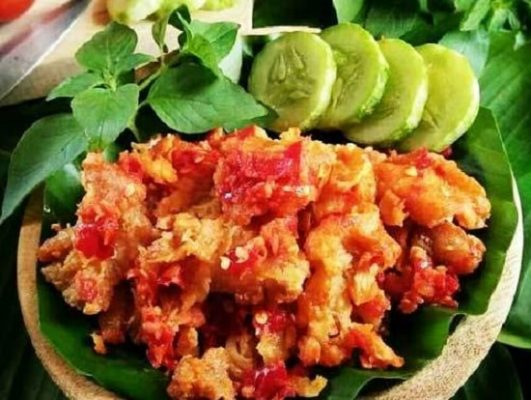ayam_geprek: (42, 122, 490, 400)
